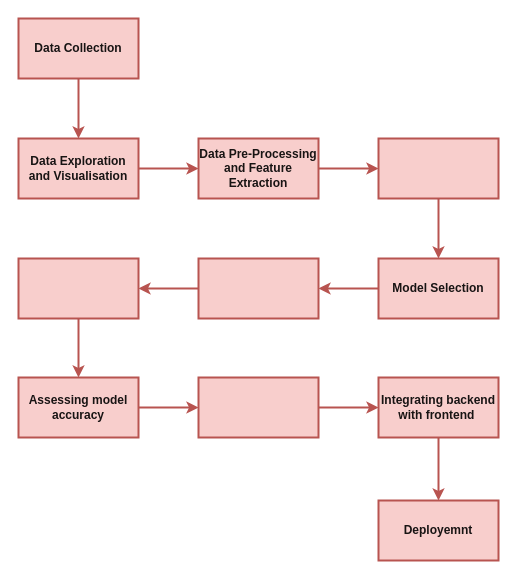
The diagram is 516 pixels wide and 578 high, and some of its shapes have lost their labels. The shapes that lost their labels are listed below. From the top down, each one's centre as x and y in pixels, then its label:
(438,168): Data Splitting
(78,288): Tuning Hyperparameters
(258,288): Training and testing the best model
(258,407): Building UI
